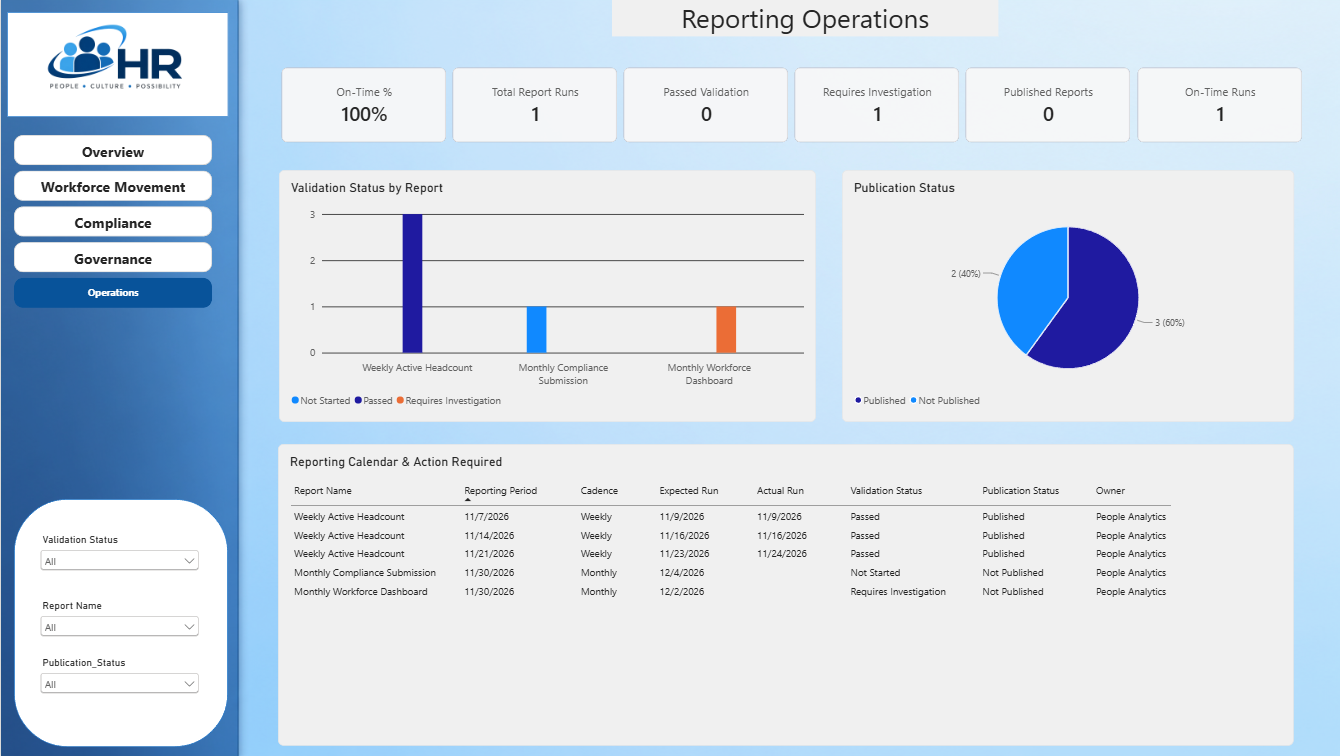

The page's visual inventory and layout, read from the dashboard file:
{"tool":"powerbi","page":{"name":"Operations","canvas":[1920,1080],"ordinal":4},"visuals":[{"type":"shape","box":[8.8,17.7,316.3,150.1],"z":0},{"type":"shape","box":[18.9,712.4,305.7,354.2],"z":1000},{"type":"textbox","box":[872.9,0,552.3,52.2],"z":2000},{"type":"cardVisual","fields":{"Data":["audit ReportRun.On-Time %"]},"box":[397.2,92.2,242,114.4],"z":5000},{"type":"cardVisual","fields":{"Data":["audit ReportRun.Total Report Runs"]},"box":[641.7,92.2,242,114.4],"z":6000},{"type":"cardVisual","fields":{"Data":["audit ReportRun.Passed Validation"]},"box":[886.1,92.2,242,114.4],"z":7000},{"type":"cardVisual","fields":{"Data":["audit ReportRun.Requires Investigation"]},"box":[1130.5,92.2,242,114.4],"z":8000},{"type":"cardVisual","fields":{"Data":["audit ReportRun.Published Reports"]},"box":[1374.9,92.2,242,114.4],"z":9000},{"type":"slicer","fields":{"Values":["raw ReportingCalendar.Validation_Status"]},"box":[51.2,762.2,235.7,68.3],"z":10000},{"type":"slicer","fields":{"Values":["raw ReportingCalendar.Report_Name"]},"box":[51.2,857.8,235.7,68.3],"z":11000},{"type":"slicer","fields":{"Values":["raw ReportingCalendar.Publication_Status"]},"box":[51.2,938.6,235.7,68.3],"z":12000},{"type":"image","box":[0,0,325.1,150.1],"z":13000},{"type":"pageNavigator","box":[19.1,192.7,284,250.1],"z":14000},{"type":"cardVisual","fields":{"Data":["audit ReportRun.On-Time Runs"]},"box":[1619.4,92.2,242,114.4],"z":15000},{"type":"tableEx","title":"Reporting Calendar & Action Required","fields":{"Values":["raw ReportingCalendar.Report_Name","raw ReportingCalendar.Reporting_Period_End","raw ReportingCalendar.Cadence","raw ReportingCalendar.Expected_Run_Date","raw ReportingCalendar.Actual_Run_Date","raw ReportingCalendar.Validation_Status","raw ReportingCalendar.Publication_Status","raw ReportingCalendar.Owner"]},"box":[395.7,634.3,1451.4,431.4],"z":16000},{"type":"clusteredColumnChart","title":"Validation Status by Report","fields":{"Category":["raw ReportingCalendar.Report_Name"],"Series":["raw ReportingCalendar.Validation_Status"],"Y":["CountNonNull(raw ReportingCalendar.Report_Name)"]},"box":[397.1,242.9,767.1,360],"z":16001},{"type":"pieChart","title":"Publication Status","fields":{"Category":["raw ReportingCalendar.Publication_Status"],"Y":["CountNonNull(raw ReportingCalendar.Publication_Status)"]},"box":[1201.4,242.9,645.7,360],"z":16002}]}

Visuals, with their boxes in screenshot pixels (x1, y1, x2, y2), scaled from the page's 1920x1080 canvas onto the 1340x756 screenshot:
shape: 6,12,227,117
shape: 13,499,227,747
textbox: 609,0,995,37
cardVisual - audit ReportRun.On-Time %: 277,65,446,145
cardVisual - audit ReportRun.Total Report Runs: 448,65,617,145
cardVisual - audit ReportRun.Passed Validation: 618,65,787,145
cardVisual - audit ReportRun.Requires Investigation: 789,65,958,145
cardVisual - audit ReportRun.Published Reports: 960,65,1128,145
slicer - raw ReportingCalendar.Validation_Status: 36,534,200,581
slicer - raw ReportingCalendar.Report_Name: 36,600,200,648
slicer - raw ReportingCalendar.Publication_Status: 36,657,200,705
image: 0,0,227,105
pageNavigator: 13,135,212,310
cardVisual - audit ReportRun.On-Time Runs: 1130,65,1299,145
"Reporting Calendar & Action Required" tableEx: 276,444,1289,746
"Validation Status by Report" clusteredColumnChart: 277,170,813,422
"Publication Status" pieChart: 838,170,1289,422
